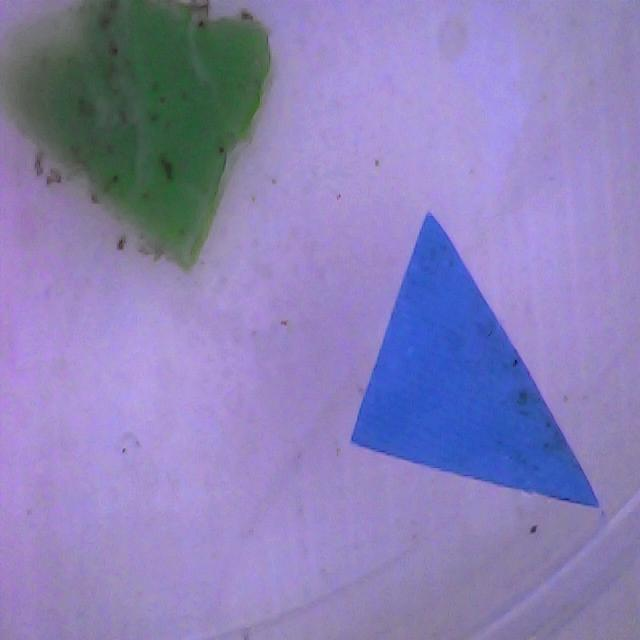fragments: (273, 211, 608, 597)
